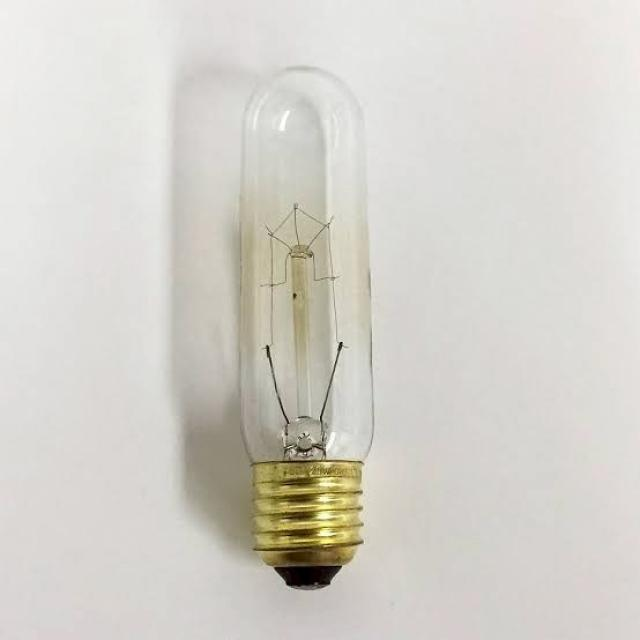bulb: (235, 63, 381, 588)
